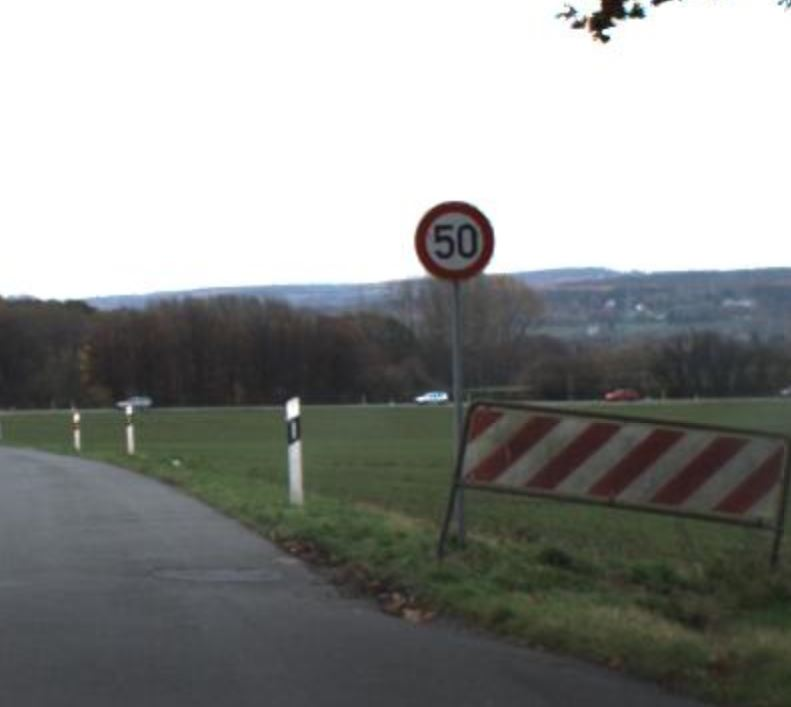50 Km Hiz Siniri: (413, 199, 493, 280)
